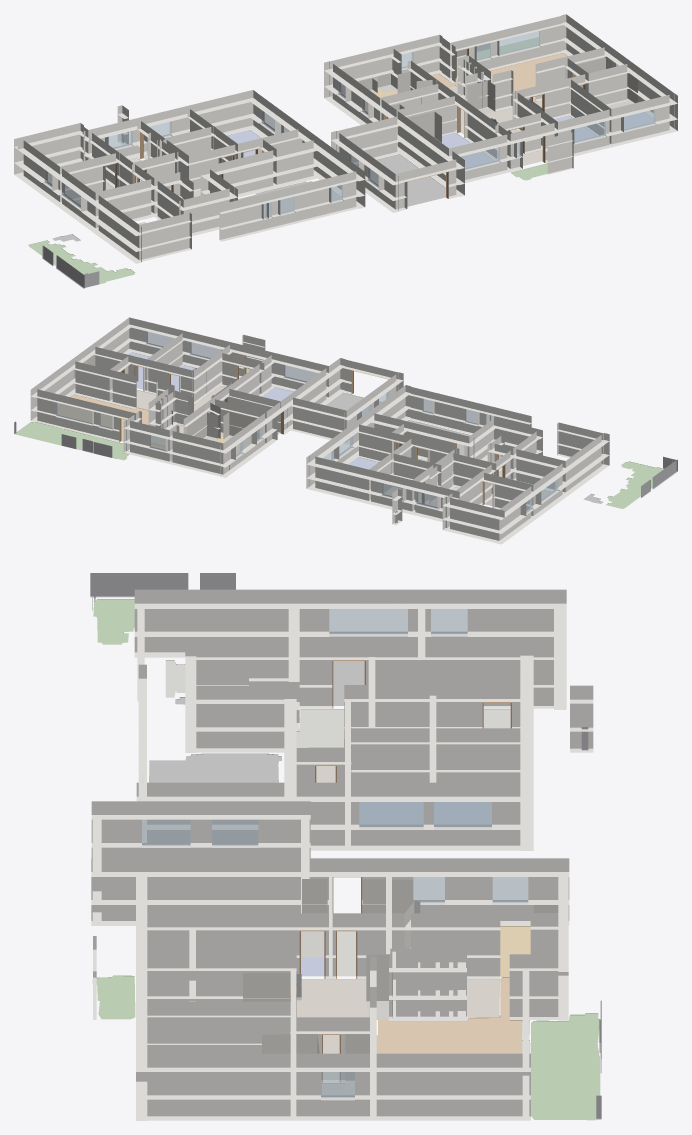
3 views of the same model, one above another, from view 1: azimuth 30°, elevation 25°; view 2: azimuth 150°, elevation 25°; view 3: azimuth 270°, elevation 25° (orthographic). The views are drawn at different scales.
Visible parts, largest first — view 1: walls, floor_16_Garage, floor_21_Outdoor, floor_1_Living_Room, railings, furniture_2_closet, window_29, floor_15_Bed_Room, furniture_5_closet, window_0, floor_2_Entry, floor_24_Garage (+3 smaller); view 2: walls, floor_20_Outdoor, railings, floor_1_Living_Room, floor_21_Outdoor, furniture_0_closet, floor_2_Entry, furniture_1_closet, window_29, floor_16_Garage, window_0; view 3: walls, floor_20_Outdoor, floor_1_Living_Room, floor_2_Entry, floor_24_Garage, railings, floor_6_Bed_Room, window_15, floor_11_Undefined, floor_21_Outdoor, window_20, floor_22_Outdoor (+15 smaller).
Boxes of the visible parts, left/top/right/bottom form: walls: left=14, top=14, right=677, bottom=263; floor_16_Garage: left=356, top=154, right=445, bottom=206; floor_21_Outdoor: left=28, top=240, right=134, bottom=284; floor_1_Living_Room: left=431, top=53, right=567, bottom=101; railings: left=42, top=43, right=511, bottom=288; furniture_2_closet: left=467, top=80, right=495, bottom=114; window_29: left=499, top=31, right=539, bottom=55; floor_15_Bed_Room: left=442, top=132, right=493, bottom=167; furniture_5_closet: left=397, top=111, right=441, bottom=151; window_0: left=461, top=147, right=499, bottom=169; floor_2_Entry: left=448, top=85, right=541, bottom=153; floor_24_Garage: left=238, top=181, right=341, bottom=216; walls: left=30, top=317, right=609, bottom=544; floor_20_Outdoor: left=15, top=422, right=128, bottom=460; railings: left=14, top=382, right=677, bottom=523; floor_1_Living_Room: left=57, top=394, right=165, bottom=449; floor_21_Outdoor: left=606, top=461, right=663, bottom=508; furniture_0_closet: left=186, top=412, right=218, bottom=440; floor_2_Entry: left=136, top=386, right=225, bottom=445; furniture_1_closet: left=223, top=412, right=265, bottom=443; window_29: left=56, top=403, right=92, bottom=424; floor_16_Garage: left=326, top=392, right=381, bottom=416; window_0: left=284, top=365, right=318, bottom=382; walls: left=91, top=589, right=593, bottom=1120; floor_20_Outdoor: left=530, top=1013, right=600, bottom=1120; floor_1_Living_Room: left=376, top=977, right=522, bottom=1053; floor_2_Entry: left=296, top=979, right=500, bottom=1079; floor_24_Garage: left=149, top=753, right=281, bottom=782; railings: left=90, top=573, right=601, bottom=1119; floor_6_Bed_Room: left=359, top=802, right=491, bottom=824; window_15: left=329, top=609, right=407, bottom=634; floor_11_Undefined: left=296, top=709, right=344, bottom=747; floor_21_Outdoor: left=93, top=599, right=134, bottom=644; window_20: left=359, top=802, right=423, bottom=827; floor_22_Outdoor: left=92, top=975, right=135, bottom=1019.
Size of the model in its own units: 48.43 by 2.72 by 19.94.
